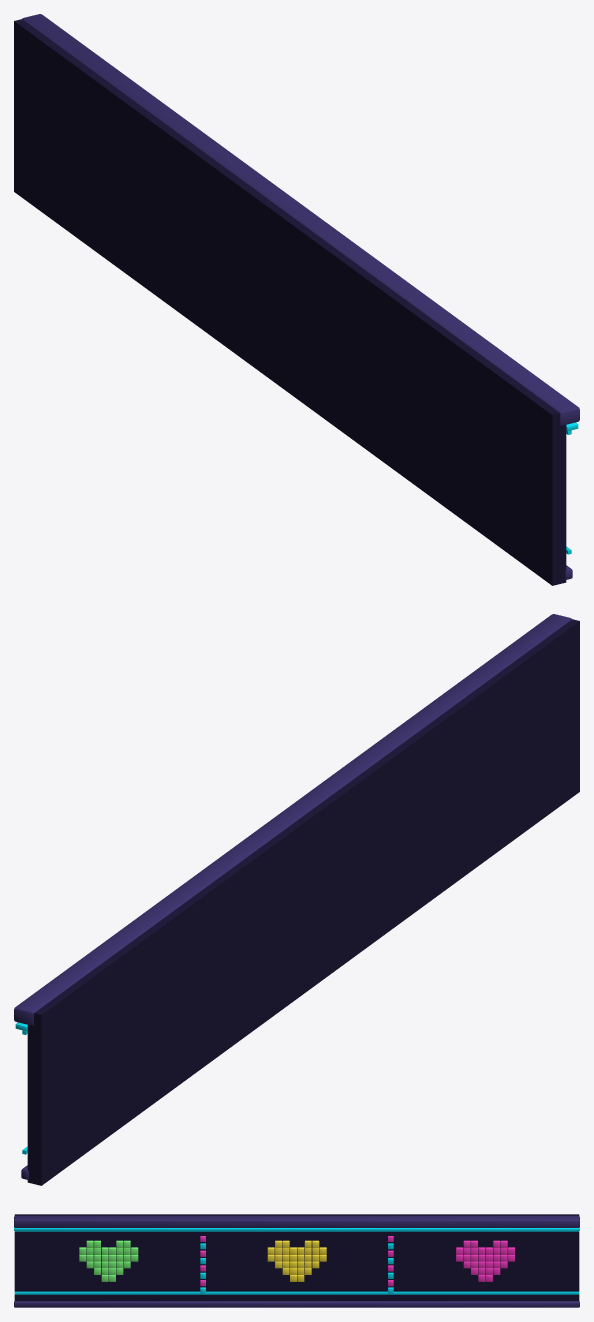
The model's file is WallPixel.fbx.
3 views of the same model, one above another, from view 1: azimuth 30°, elevation 25°; view 2: azimuth 150°, elevation 25°; view 3: azimuth 270°, elevation 25° (orthographic). The views are drawn at different scales.
Parts seen in each view (by area): view 1: WallPixel; view 2: WallPixel; view 3: WallPixel.
Part boxes in pixels (x1,y1,x2,y2): WallPixel: (14,14,579,585); WallPixel: (14,614,579,1185); WallPixel: (14,1214,579,1307).
Size of the model in its own units: 240 by 1410 by 8020.
